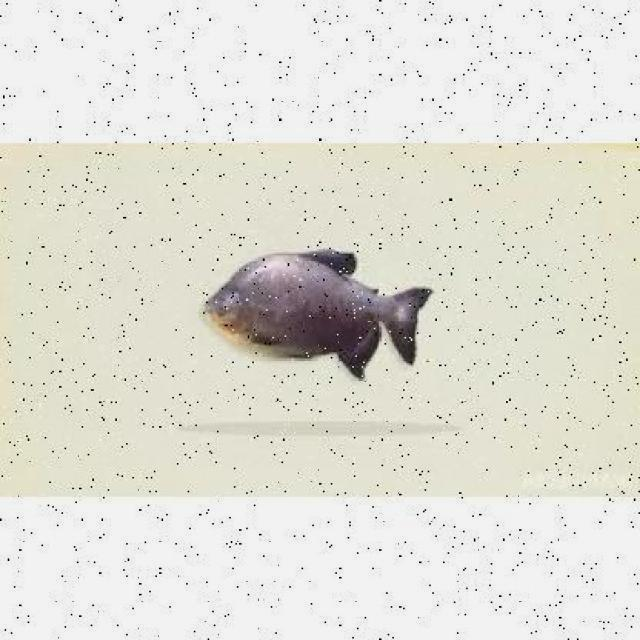ikan-pacu: (203, 242, 431, 373)
